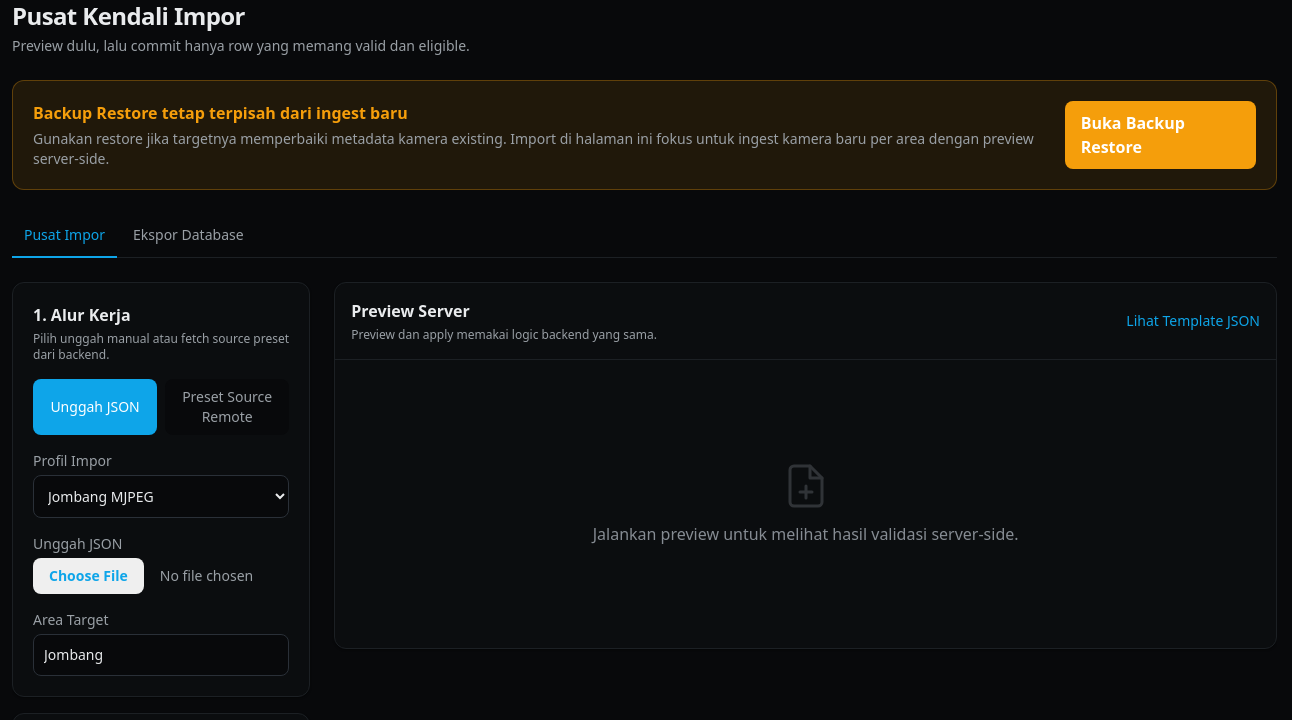
Test: ImportExport › prefills target area from query string and previews remote Jombang preset
Expected: the field showing "Jombang" is shown, left=33, top=634, right=289, bottom=676
Click the button "Preset Source Remote": (227, 407) left=165, top=379, right=289, bottom=435
(page scrolled)
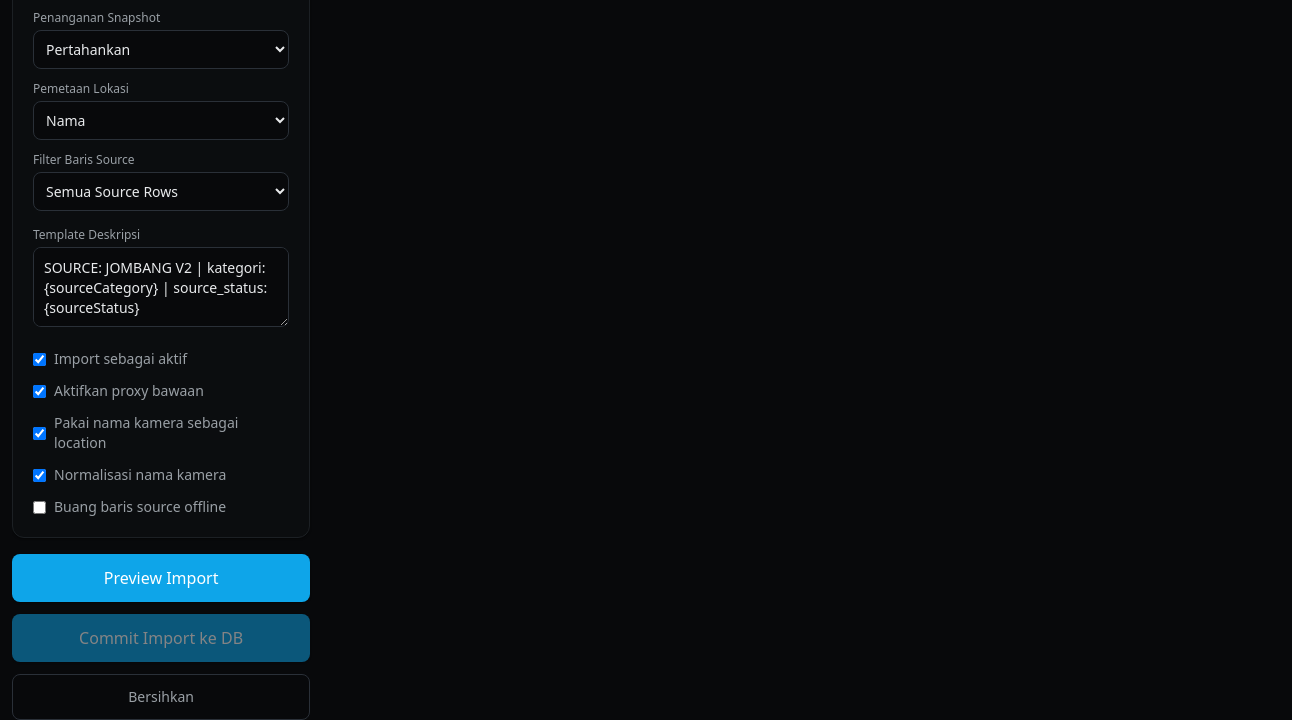
Click the button "Preview Import": (161, 578) left=12, top=554, right=310, bottom=602
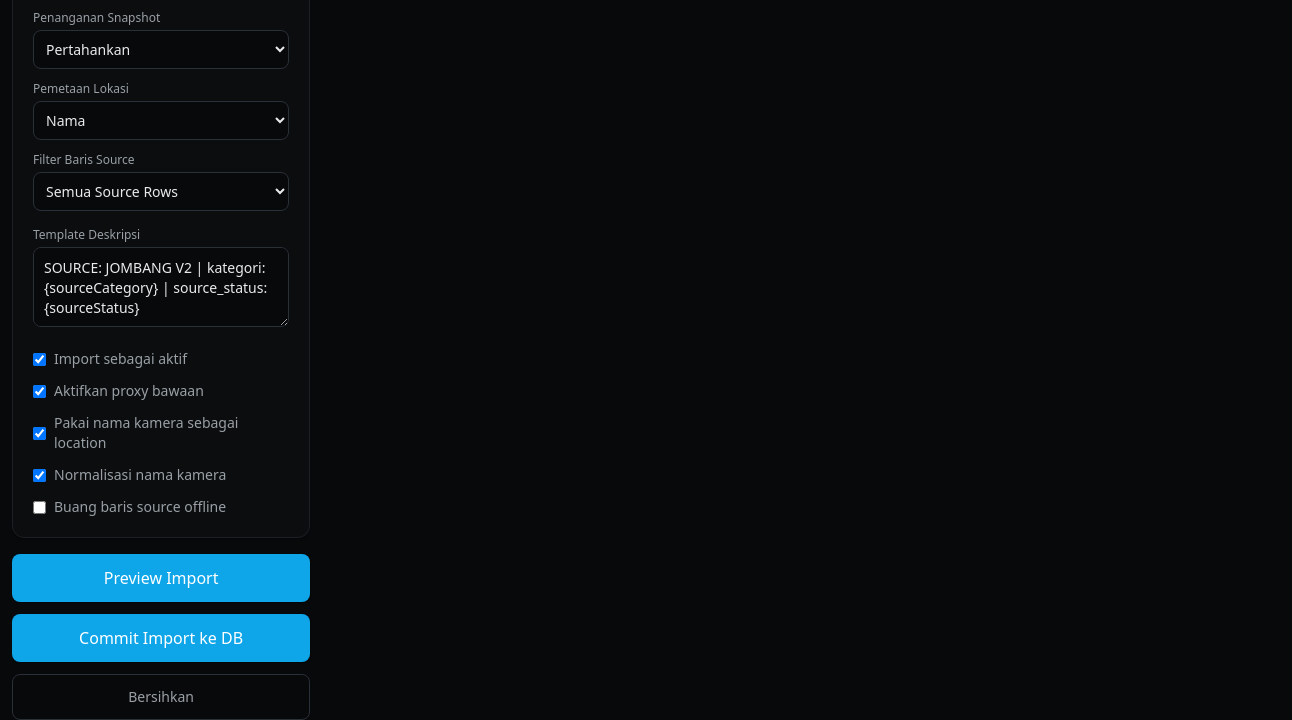
Result: the button "Commit Import ke DB" is enabled at left=12, top=614, right=310, bottom=662
